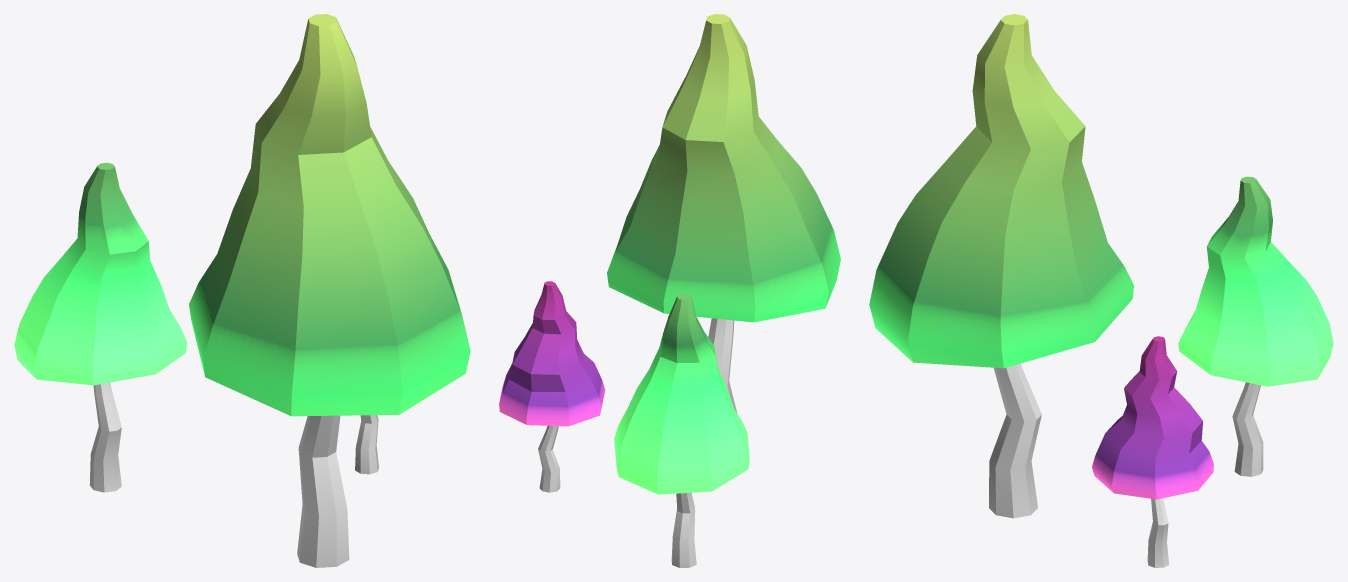
The model's file is mush2.fbx.
The picture shows the model from 3 angles, left to right: view 1: azimuth 30°, elevation 25°; view 2: azimuth 150°, elevation 25°; view 3: azimuth 270°, elevation 25°; orthographic projection. The views are drawn at different scales.
Parts seen in each view (by area): view 1: Cube.frozen; view 2: Cube.frozen; view 3: Cube.frozen.
Part boxes in pixels (left/top/right/bottom): Cube.frozen: left=14, top=14, right=470, bottom=567; Cube.frozen: left=499, top=14, right=840, bottom=567; Cube.frozen: left=869, top=14, right=1333, bottom=567.
Bounding box in the file's own units: 30.19 × 45.01 × 38.66.
1 material, 1 textured.
